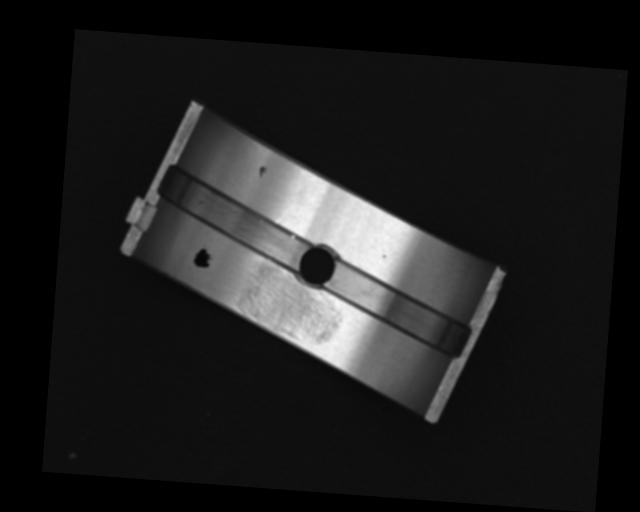blot: (192, 247, 213, 268)
bruise: (256, 163, 268, 179), (381, 253, 386, 259)
gap: (150, 163, 315, 274), (321, 259, 479, 361)
hole: (291, 239, 342, 291)
nick: (274, 189, 300, 224)
scratch: (230, 262, 348, 347)
